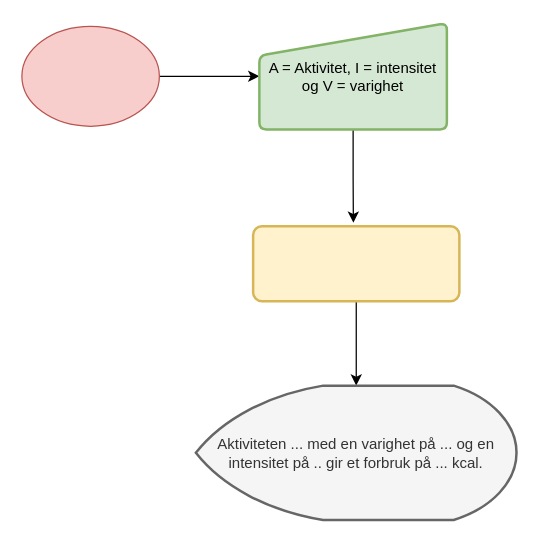
Image size: 540x543. Some labels were removed from this diagram. Here are the shapes that lost their labels. From the top down, the box of each, then its label:
(21, 25, 159, 126): Start
(251, 224, 460, 302): Forbruk = A*I*V/60
